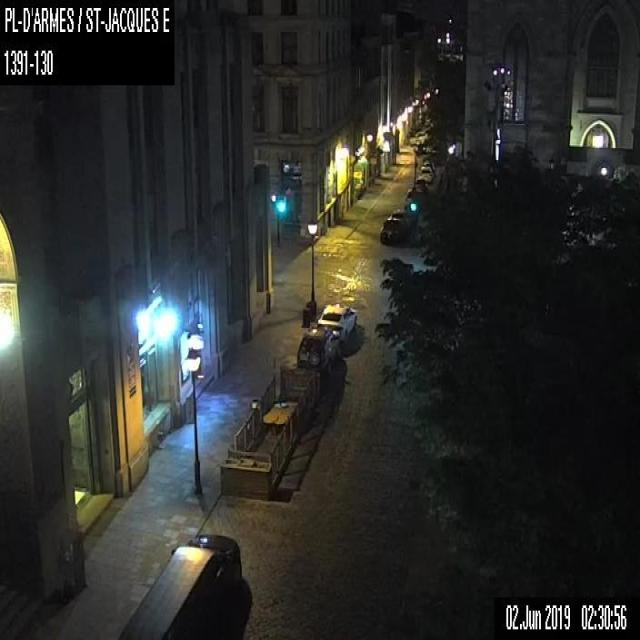vehicle: (115, 529, 241, 639), (296, 325, 339, 373), (316, 303, 356, 342), (378, 216, 404, 245), (388, 209, 411, 235), (402, 187, 424, 212), (417, 165, 433, 183), (413, 176, 428, 191)
